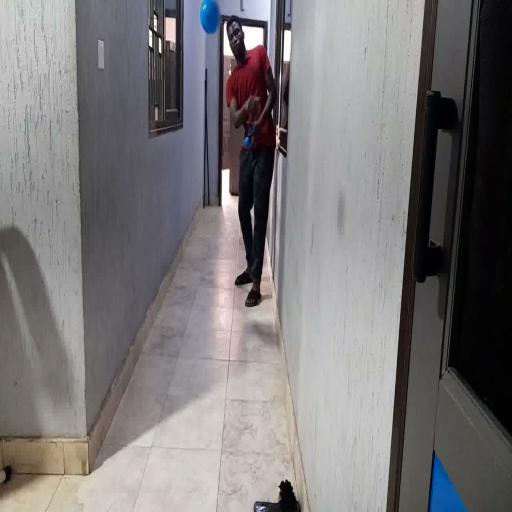plastic-ball: (199, 0, 221, 37)
